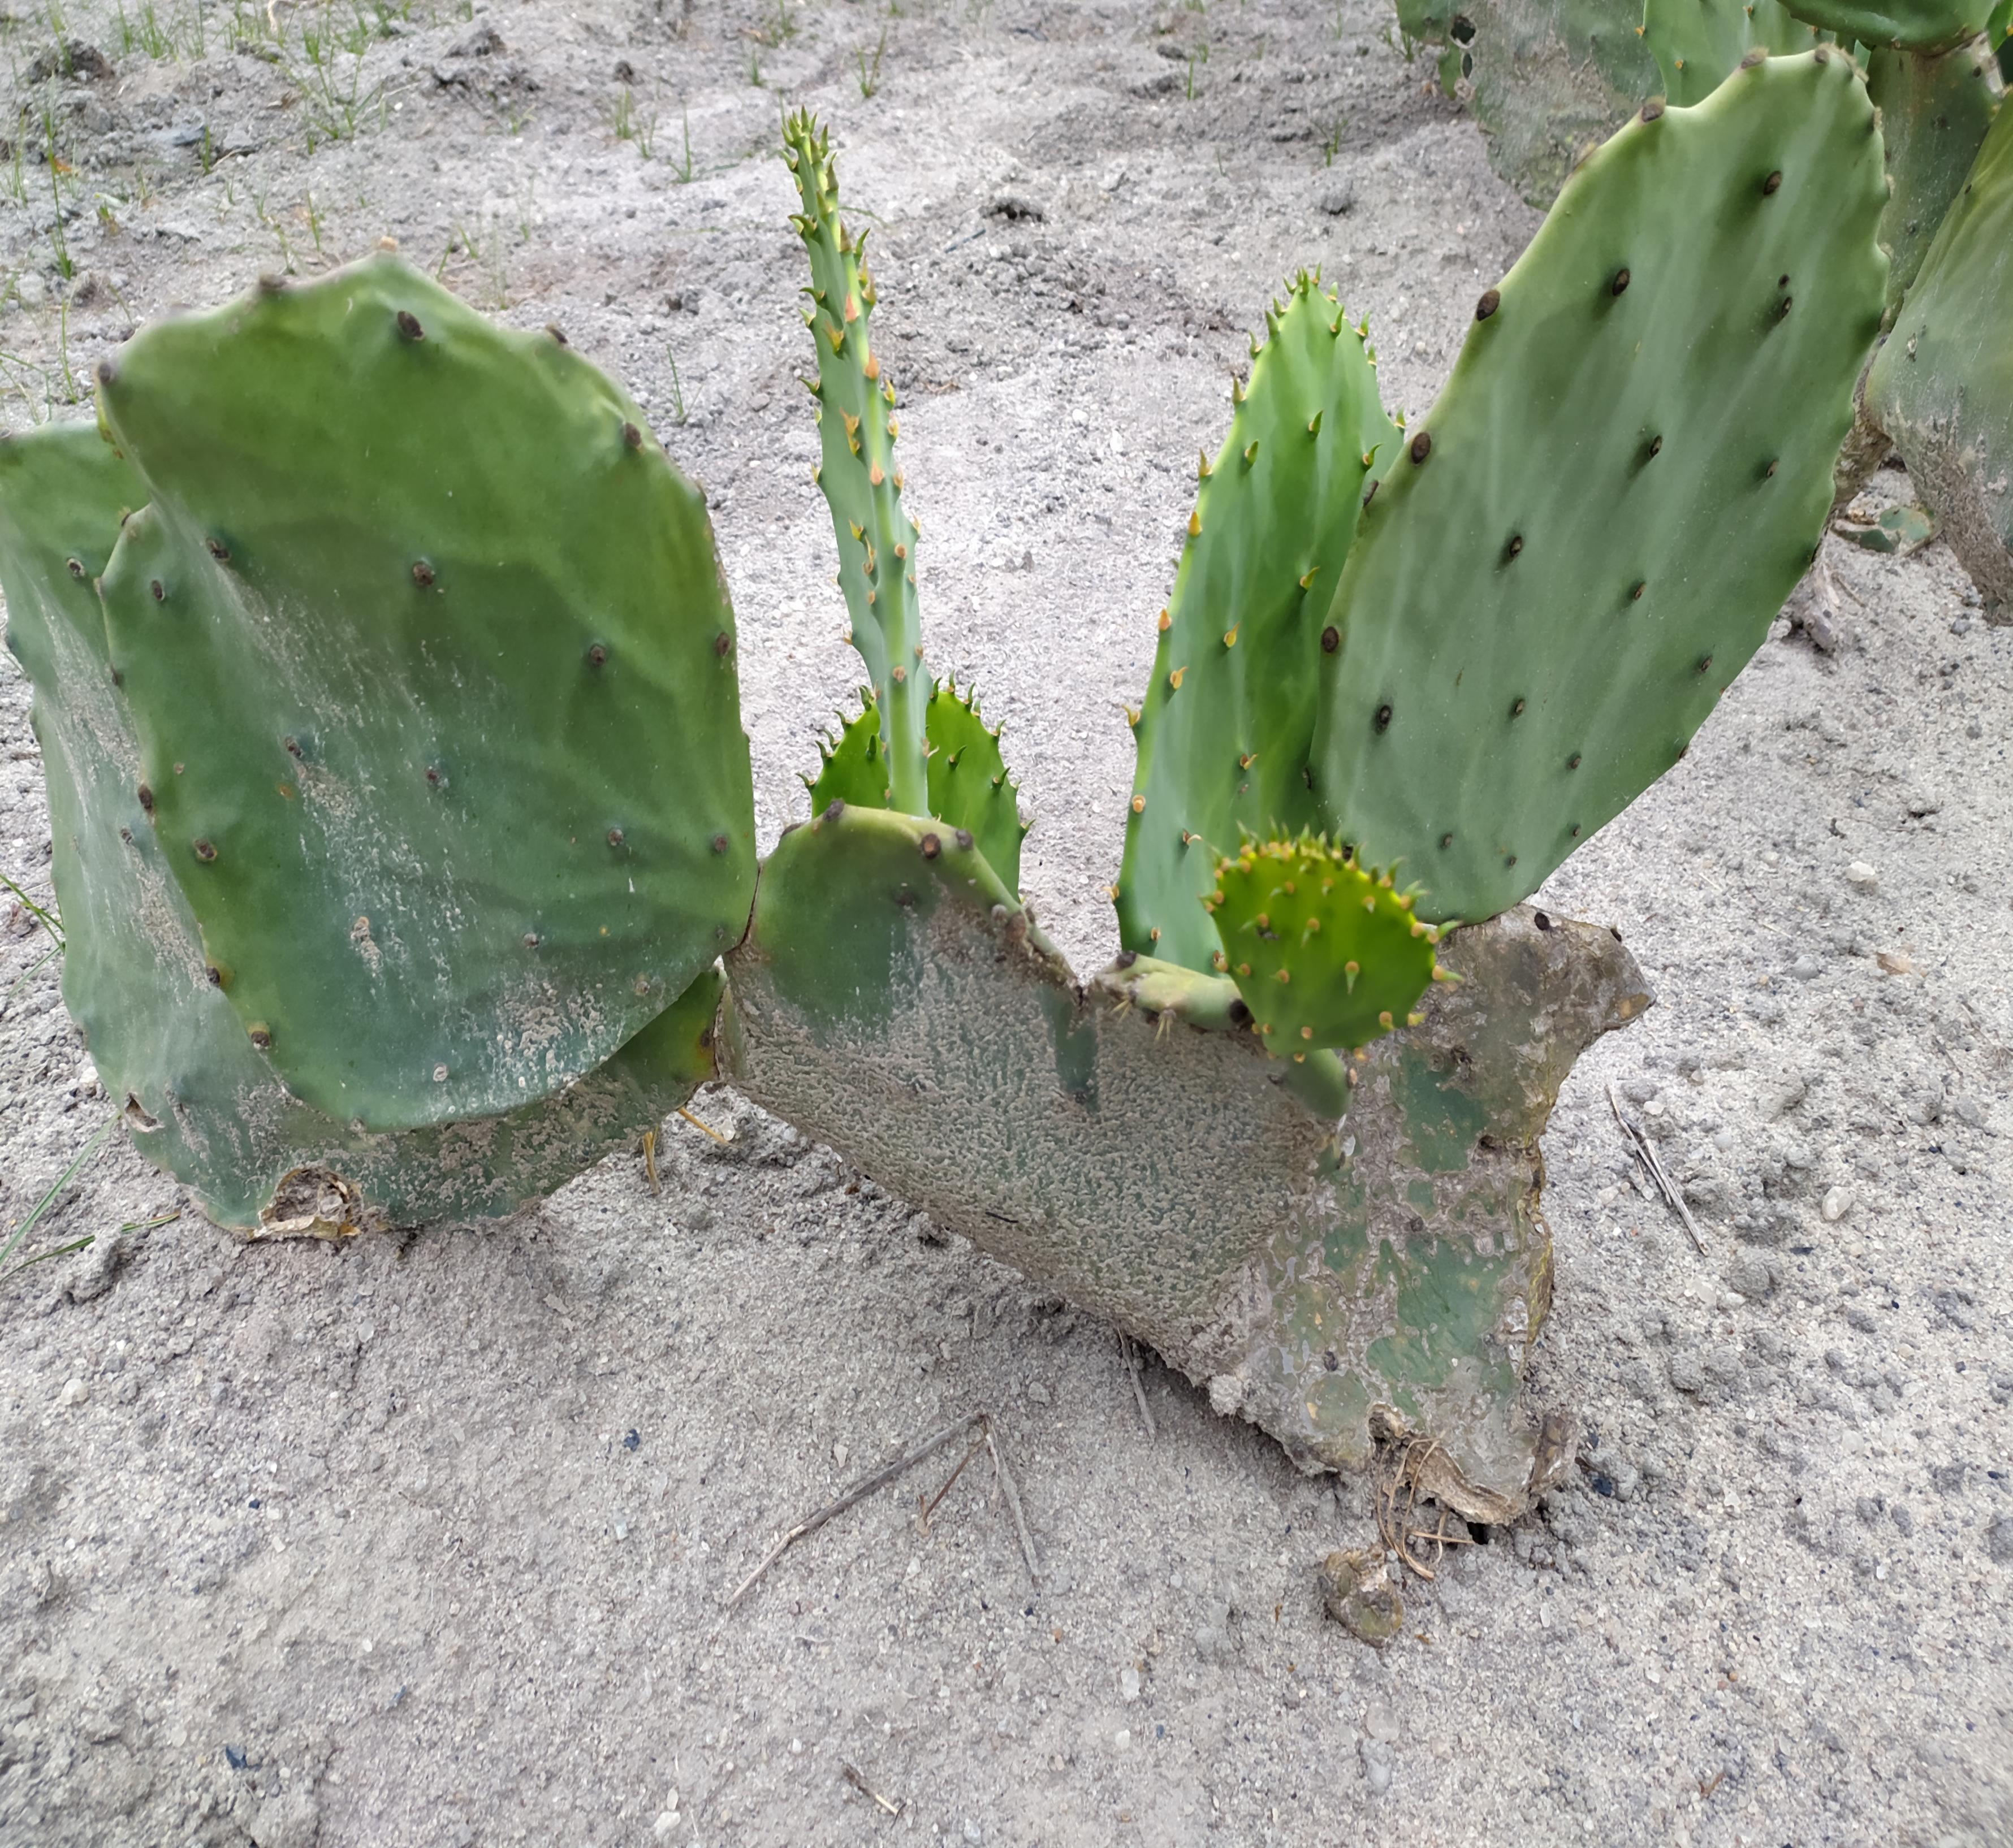impropria: (793, 135, 926, 849), (833, 687, 1023, 1043), (1215, 851, 1437, 1100)
propria: (6, 427, 722, 1235), (86, 347, 769, 1079), (1326, 84, 1858, 920), (1120, 294, 1340, 970)
